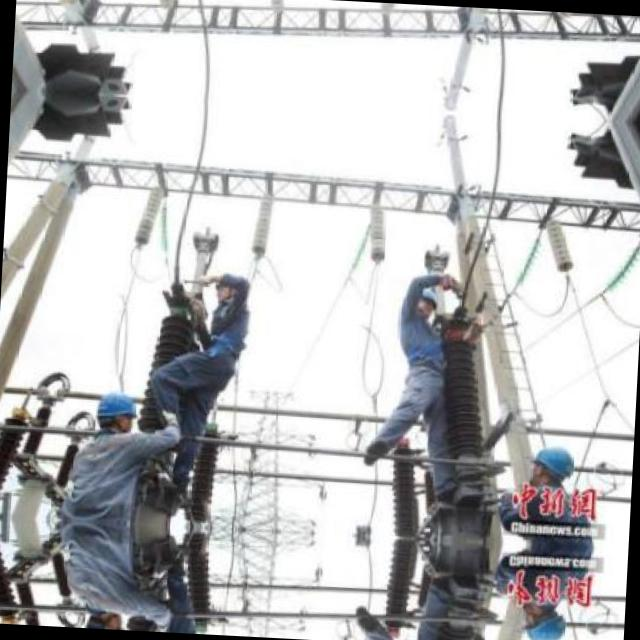helmet: (88, 388, 139, 435), (529, 442, 576, 488), (521, 600, 568, 640), (409, 286, 438, 322), (77, 608, 129, 628)
